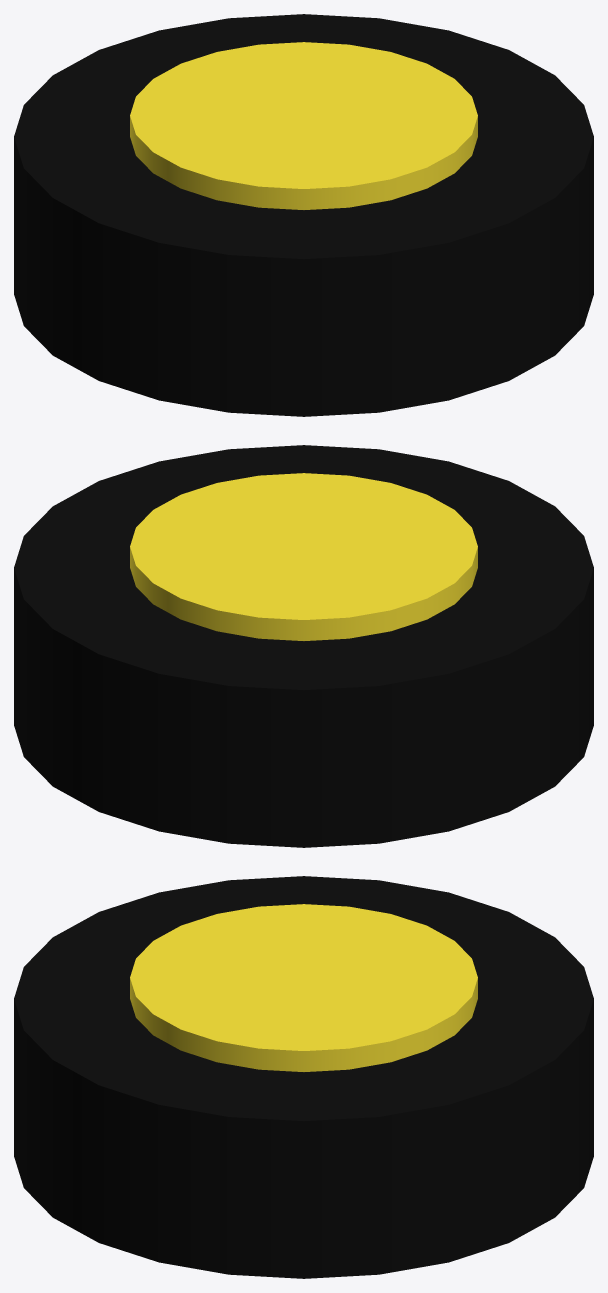
File: LlantaAdelante.obj
The picture shows the model from 3 angles, top to bottom: view 1: azimuth 30°, elevation 25°; view 2: azimuth 150°, elevation 25°; view 3: azimuth 270°, elevation 25°; orthographic projection.
Visible parts, largest first — view 1: LlantaAdelante; view 2: LlantaAdelante; view 3: LlantaAdelante.
Part boxes in pixels (x1,y1,x2,y2): LlantaAdelante: (14, 14, 593, 416); LlantaAdelante: (14, 445, 593, 847); LlantaAdelante: (14, 876, 593, 1278).
Bounding box in the file's own units: 0.5 × 0.17 × 0.5.
